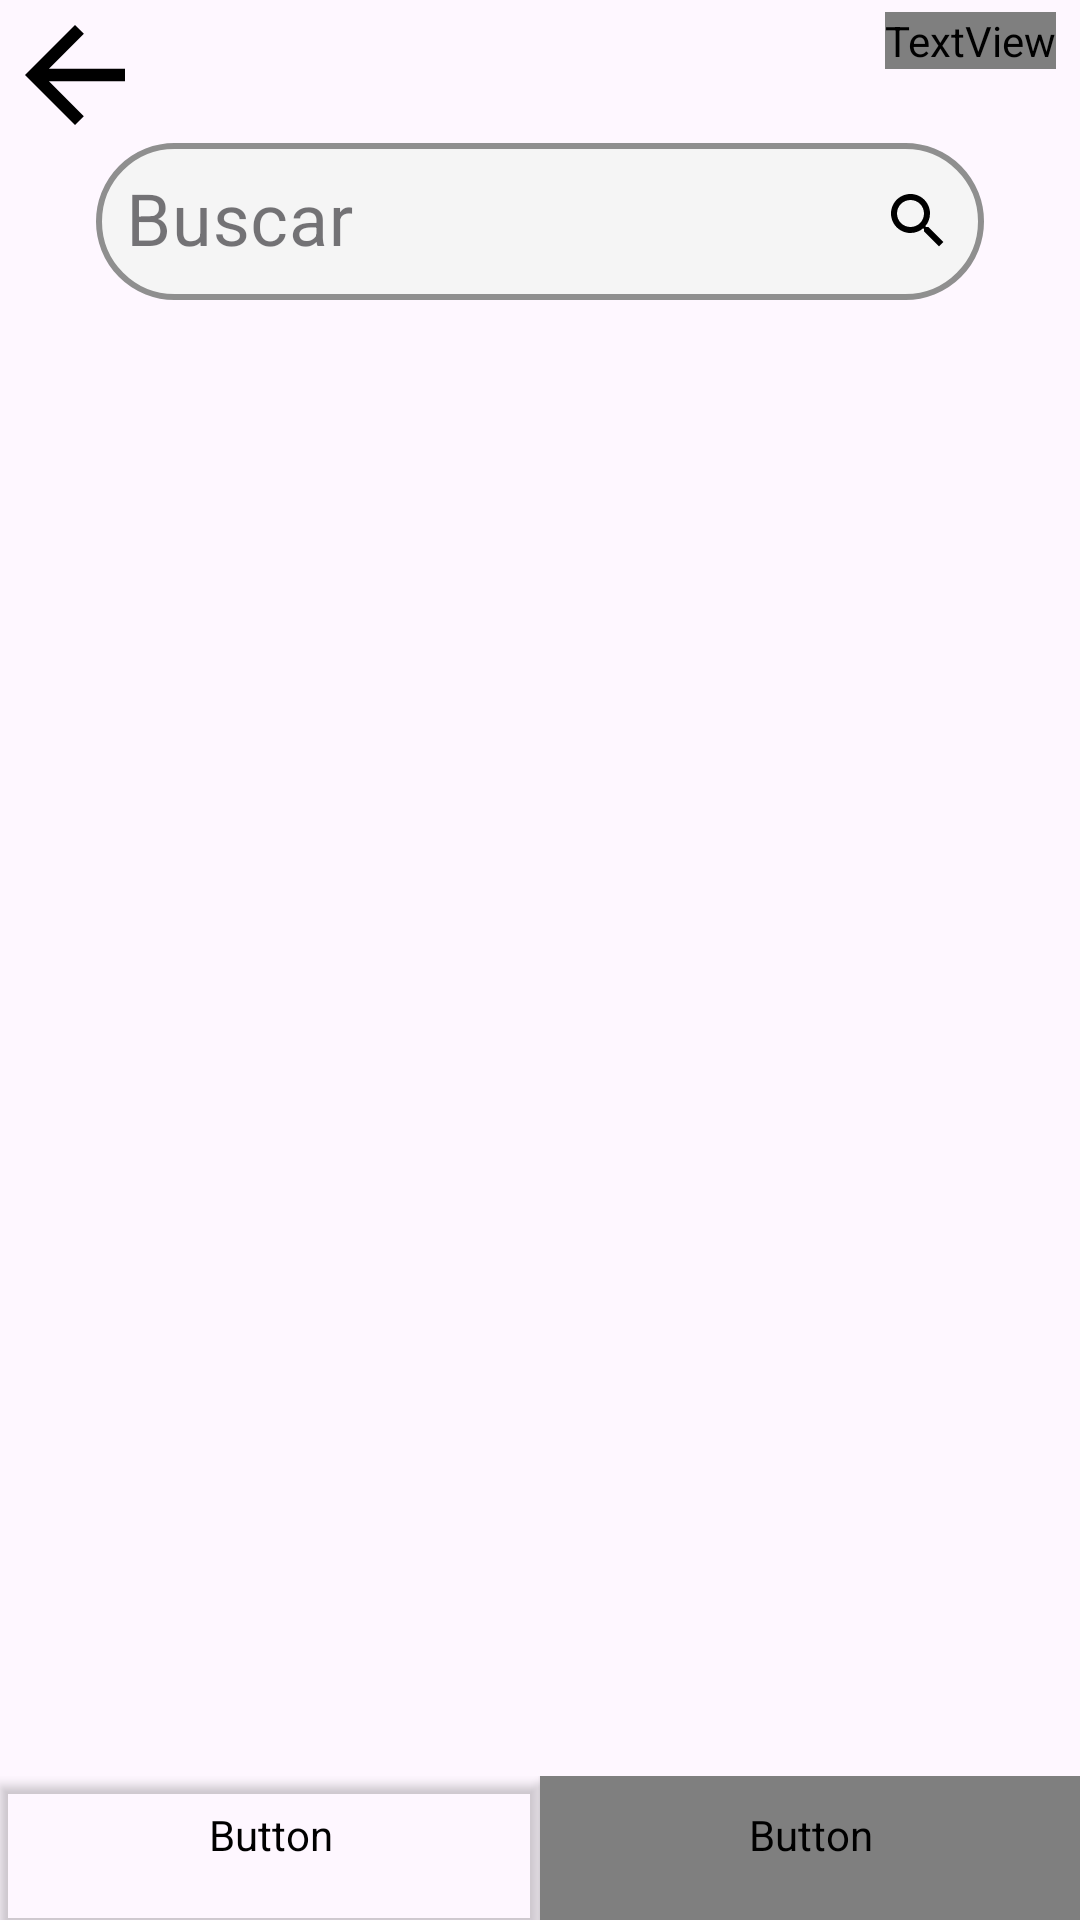

Named icons in this screenshot (1080px×1920px) and their bounding boxes, (x1, y1, x2, y2):
Return: (25, 25, 125, 125)
